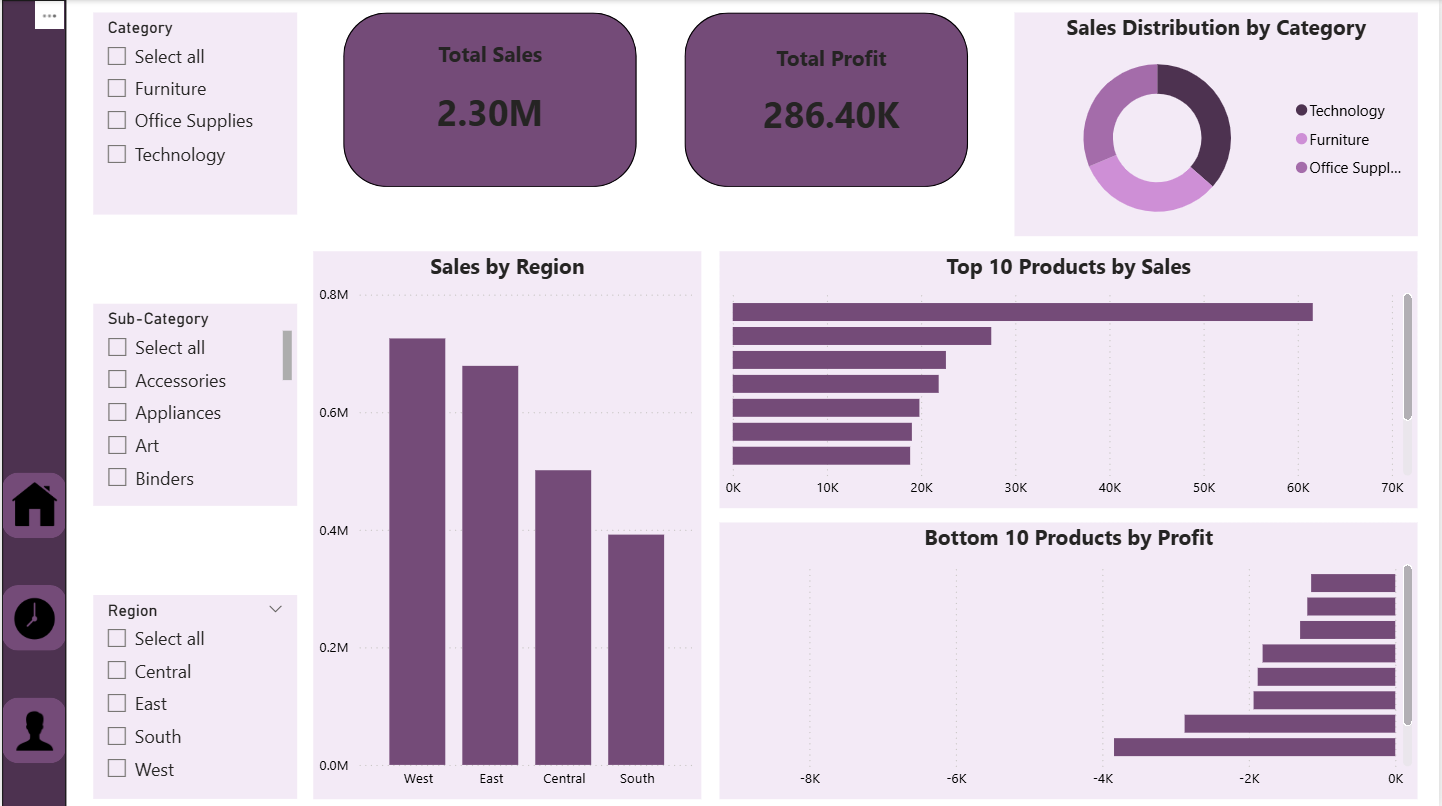

Layout of this report page (visuals, bound fields, positions):
{"tool":"powerbi","page":{"name":"Product & Regional Analysis","canvas":[1280,720],"ordinal":2},"visuals":[{"type":"slicer","fields":{"Values":["Orders.Region"]},"box":[80.9,529.9,181.6,181.6],"z":0},{"type":"slicer","fields":{"Values":["Orders.Category"]},"box":[80.9,10.9,181.6,180.4],"z":1000},{"type":"slicer","fields":{"Values":["Orders.Sub-Category"]},"box":[80.9,270.6,181.6,180.4],"z":2000},{"type":"clusteredBarChart","title":"Top 10 Products by Sales","fields":{"Category":["Orders.Product Name"],"Y":["Orders.Total Sales"]},"box":[639.4,223.3,622,228.9],"z":3000},{"type":"clusteredBarChart","title":"Bottom 10 Products by Profit","fields":{"Category":["Orders.Product Name"],"Y":["Orders.Total Profit"]},"box":[639.4,465.2,622,246.3],"z":4000},{"type":"donutChart","title":"Sales Distribution by Category","fields":{"Category":["Orders.Category"],"Y":["Orders.Total Sales"]},"box":[901.9,10.9,359.5,199],"z":5000},{"type":"clusteredColumnChart","title":"Sales by Region","fields":{"Category":["Orders.Region"],"Y":["Orders.Total Sales"]},"box":[277.4,223.9,345.8,487.6],"z":6000},{"type":"shape","box":[304.4,10.9,261.2,155.5],"z":7000},{"type":"shape","box":[0,0,57.2,720.3],"z":8000,"group":"g4"},{"type":"shape","box":[607.5,10.9,252.5,155.5],"z":9000},{"type":"card","title":"Total Profit","fields":{"Values":["Orders.Total Profit"]},"box":[631.9,38.6,212.7,102],"z":10000},{"type":"card","title":"Total Sales","fields":{"Values":["Orders.Total Sales"]},"box":[318.5,36.1,232.6,104.5],"z":11000},{"type":"group","id":"g1","title":"Group 1","box":[0,420.5,57.2,58.5],"z":12000,"group":"g4"},{"type":"shape","box":[0,420.5,57.2,58.5],"z":12000,"group":"g5"},{"type":"shape","box":[0,520.6,57.2,58.5],"z":12000,"group":"g2"},{"type":"shape","box":[0,620.7,57.2,58.5],"z":12000,"group":"g3"},{"type":"group","id":"g2","title":"Group 1","box":[0,520.6,57.2,58.5],"z":13000,"group":"g4"},{"type":"group","id":"g3","title":"Group 3","box":[0,620.7,57.2,58.5],"z":14000,"group":"g4"},{"type":"group","id":"g4","title":"Group 2","box":[0,0,57.2,720.3],"z":14001},{"type":"image","box":[7.5,530.6,42.3,39.8],"z":14001,"group":"g2"},{"type":"image","box":[6.2,625.7,43.5,51],"z":14003,"group":"g3"},{"type":"group","id":"g5","title":"Group 3","box":[0,420.5,57.2,58.5],"z":18000,"group":"g1"},{"type":"image","box":[6.2,428,44.8,42.3],"z":19000,"group":"g1"}]}

Visuals, with their boxes on the page's 1280x720 design canvas (x1, y1, x2, y2). These are canvas units, not pixel positions in the 1442x806 screenshot, which may show the page scaled, cropped or inside an application window:
slicer - Orders.Region: 81,530,262,712
slicer - Orders.Category: 81,11,262,191
slicer - Orders.Sub-Category: 81,271,262,451
"Top 10 Products by Sales" clusteredBarChart: 639,223,1261,452
"Bottom 10 Products by Profit" clusteredBarChart: 639,465,1261,712
"Sales Distribution by Category" donutChart: 902,11,1261,210
"Sales by Region" clusteredColumnChart: 277,224,623,712
shape: 304,11,566,166
shape: 0,0,57,720
shape: 608,11,860,166
"Total Profit" card: 632,39,845,141
"Total Sales" card: 318,36,551,141
"Group 1" group: 0,420,57,479
shape: 0,420,57,479
shape: 0,521,57,579
shape: 0,621,57,679
"Group 1" group: 0,521,57,579
"Group 3" group: 0,621,57,679
"Group 2" group: 0,0,57,720
image: 8,531,50,570
image: 6,626,50,677
"Group 3" group: 0,420,57,479
image: 6,428,51,470
